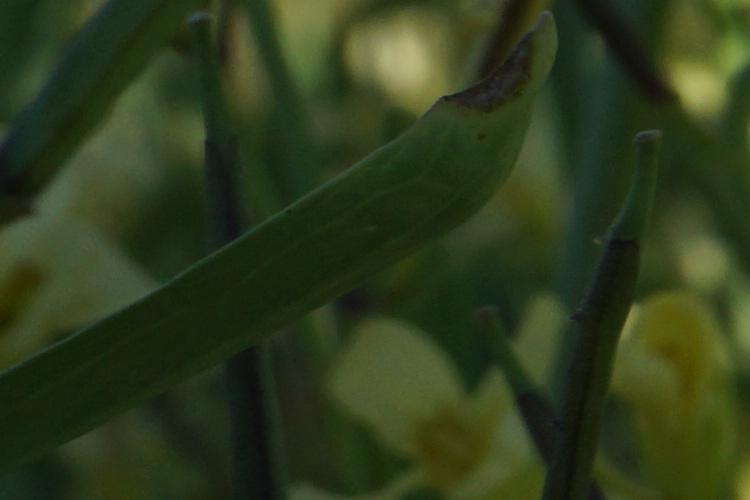pod: (171, 16, 297, 500), (558, 125, 657, 497)
